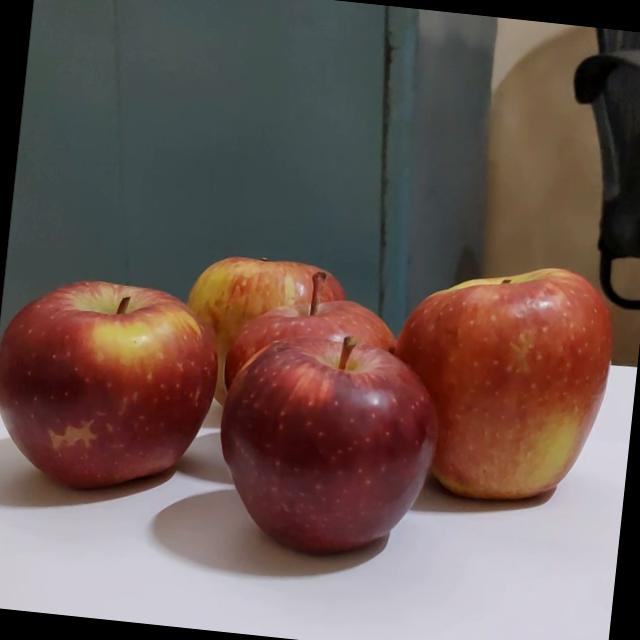apple: (368, 248, 599, 504), (232, 318, 464, 560), (0, 277, 236, 511), (210, 260, 400, 484), (144, 241, 314, 433)
